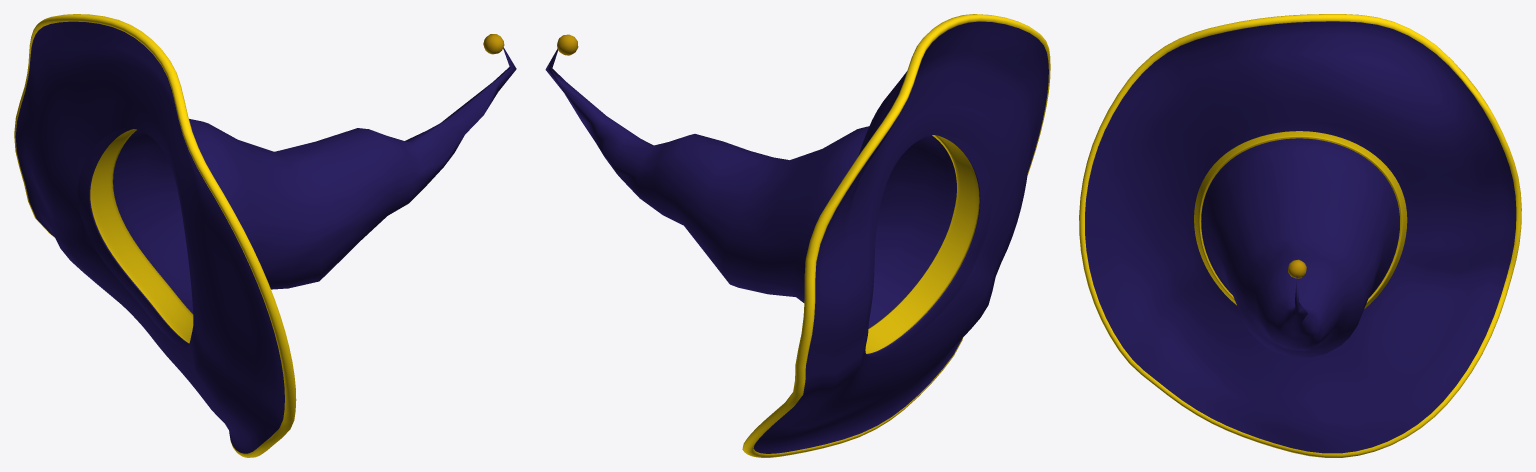
File: hat.fbx
The picture shows the model from 3 angles, left to right: view 1: azimuth 30°, elevation 25°; view 2: azimuth 150°, elevation 25°; view 3: azimuth 270°, elevation 25°; orthographic projection. The views are drawn at different scales.
Visible parts, largest first — view 1: Witch_Hat; view 2: Witch_Hat; view 3: Witch_Hat.
Part boxes in pixels (x1,y1,x2,y2): Witch_Hat: [14, 14, 516, 457]; Witch_Hat: [545, 14, 1050, 457]; Witch_Hat: [1079, 14, 1521, 457].
Bounding box in the file's own units: 862 × 865 × 883.
